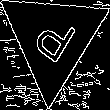P_SW: (26, 8, 80, 71)
